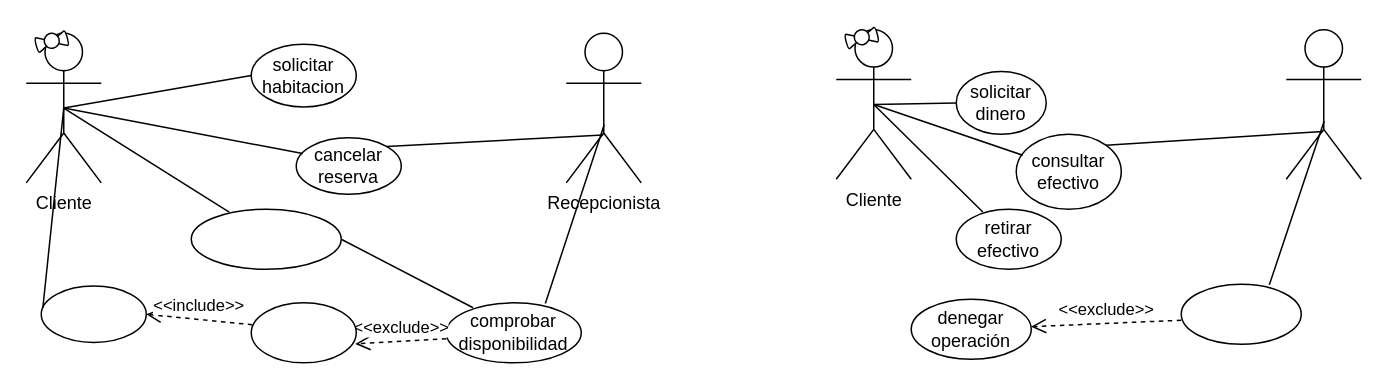
The diagram is 1388 pixels wide and 390 high, and some of its shapes have lost their labels. The shapes that lost their labels are listed below. From the top down, each one's centre as x and y in pixels, then its label:
At point (1323, 103): "Cajero".
At point (265, 238): "introducir fecha y huespedes".
At point (93, 313): "hacer pago".
At point (303, 332): "confirmar operación".
At point (1240, 313): "comprobar identidad".
